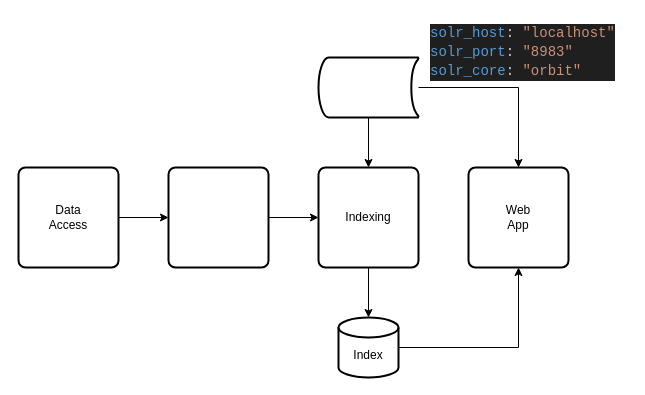
Image size: 645x395. Some labels were removed from this diagram. Each missing label, with the centre of its shape:
"config.yaml" belongs at pixel 368 87.
"Data Cleaning" belongs at pixel 218 217.
